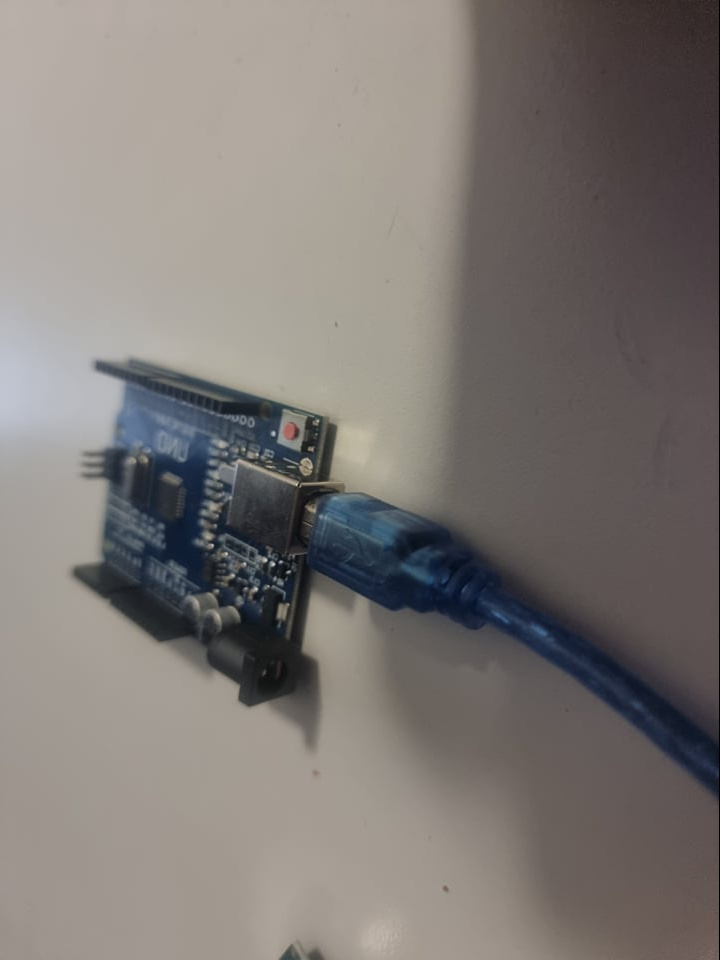UNO R3: (67, 348, 329, 715)
